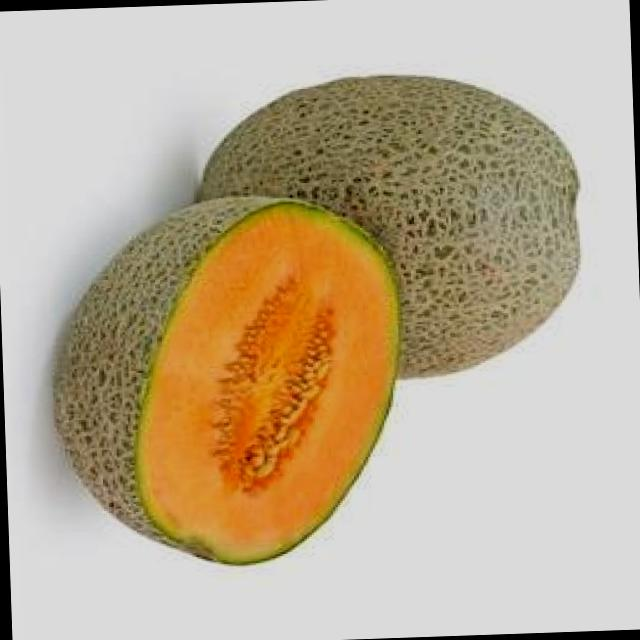cantaloupe: (42, 188, 413, 572), (192, 70, 584, 387)
